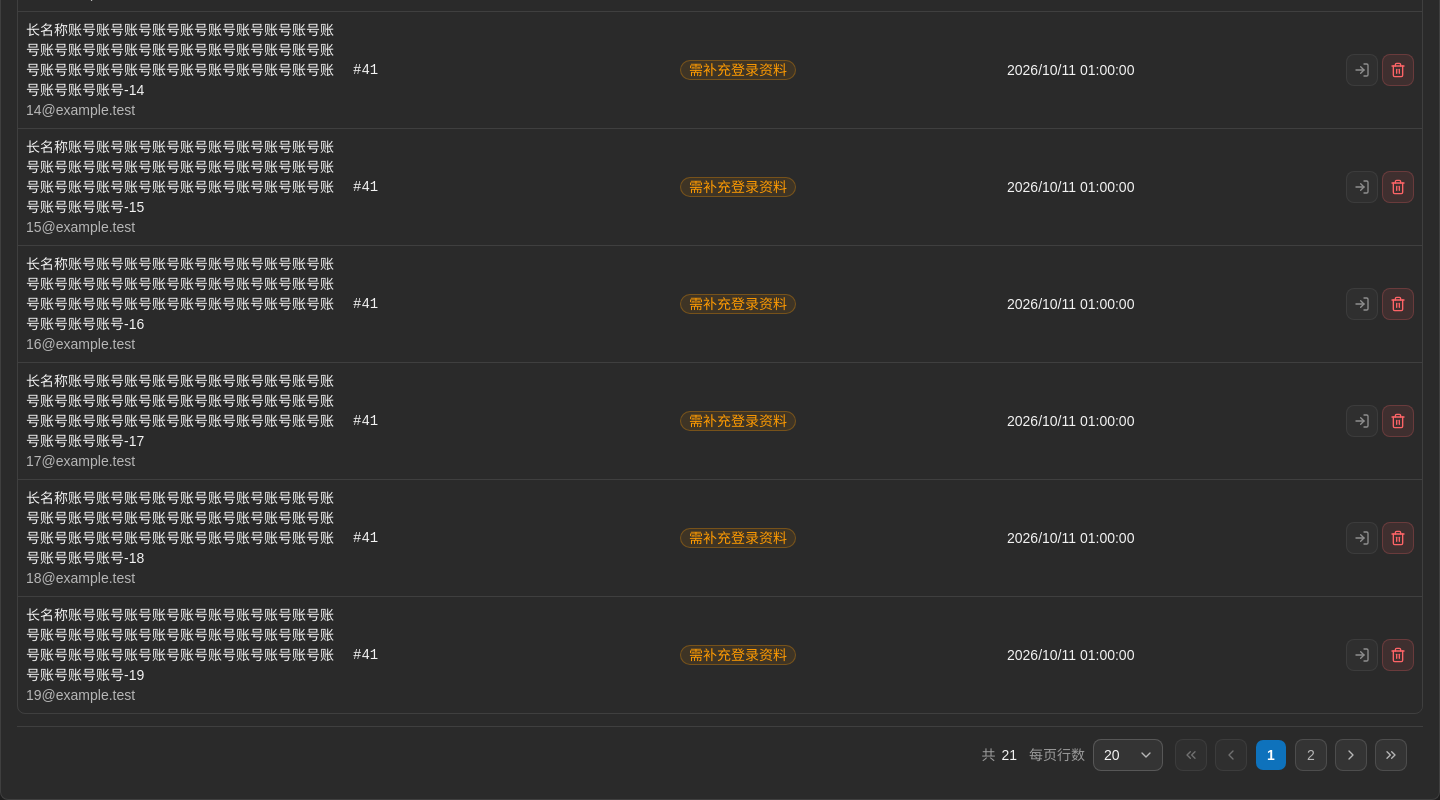
Test: 仅 JSON 导入记录禁用重新登录，长账号文案换行并允许逐页删除
The width and height of the screenshot is (1440, 800).
(page scrolled)
Step 1. Click the button named "转到下一页" → (1351, 754), box [1335,738,1367,770]
(page scrolled)
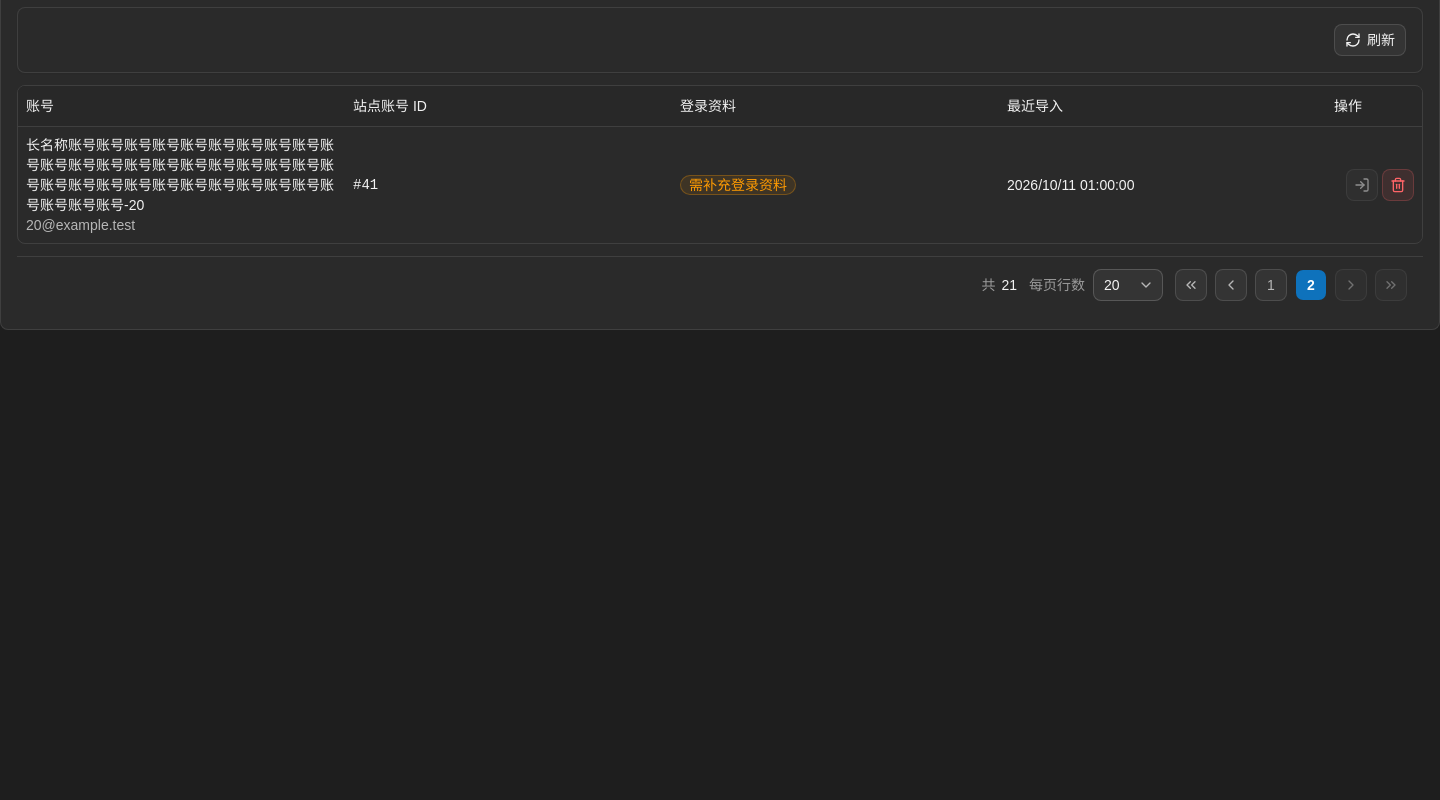
Check: the number of rows is 2, box [18,86,1422,126]; [18,126,1422,242]
